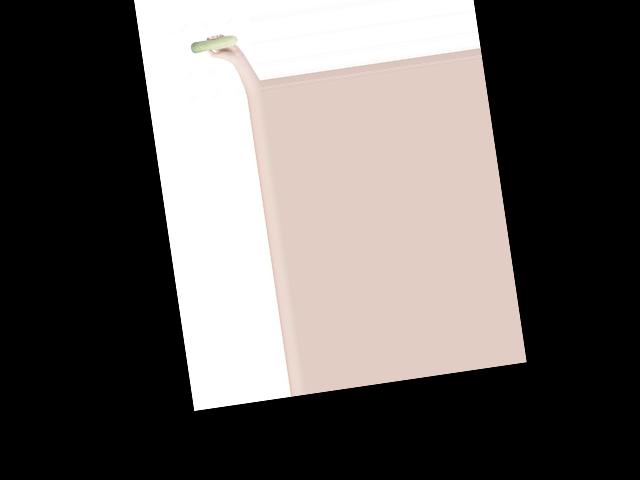cucumber: (189, 35, 239, 54)
